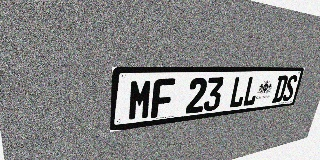2: (185, 77, 208, 114)
3: (203, 77, 224, 112)
D: (272, 75, 289, 103)
F: (151, 78, 175, 118)
L: (228, 76, 248, 108), (242, 76, 261, 107)
M: (127, 79, 153, 121)
S: (282, 75, 298, 102)
